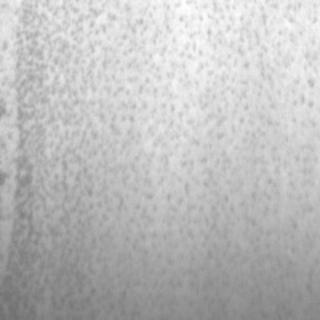pitted_surface: (10, 0, 318, 318)
